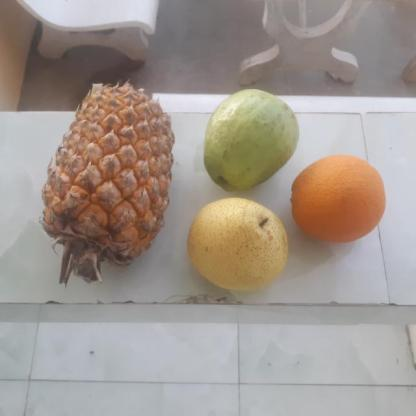guava: (201, 90, 297, 190)
orange: (288, 155, 386, 242)
pear: (181, 198, 288, 296)
pineapple: (40, 89, 170, 276)
